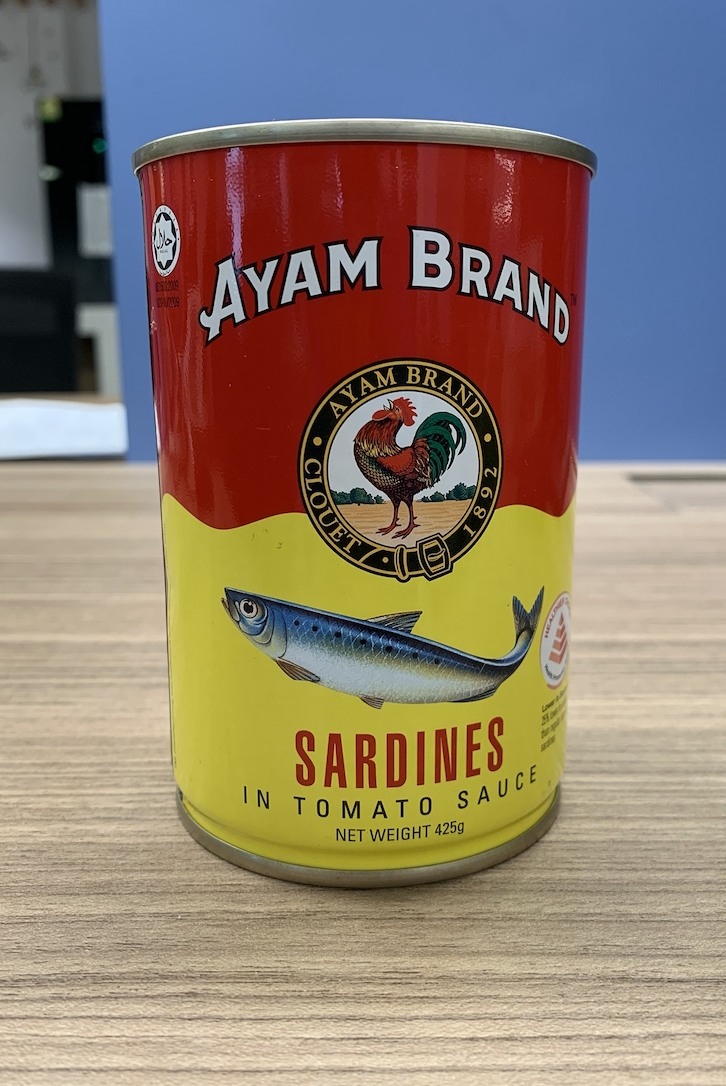sardines_400g-499g: (146, 173, 568, 859)
